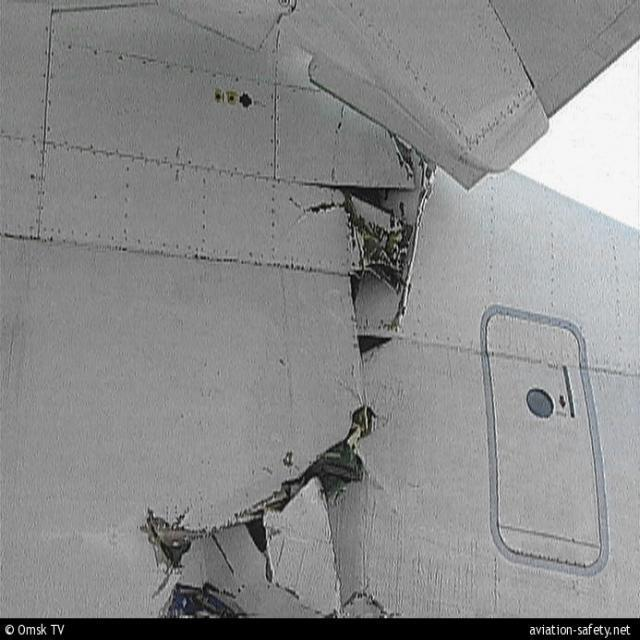crack: (138, 399, 389, 606)
